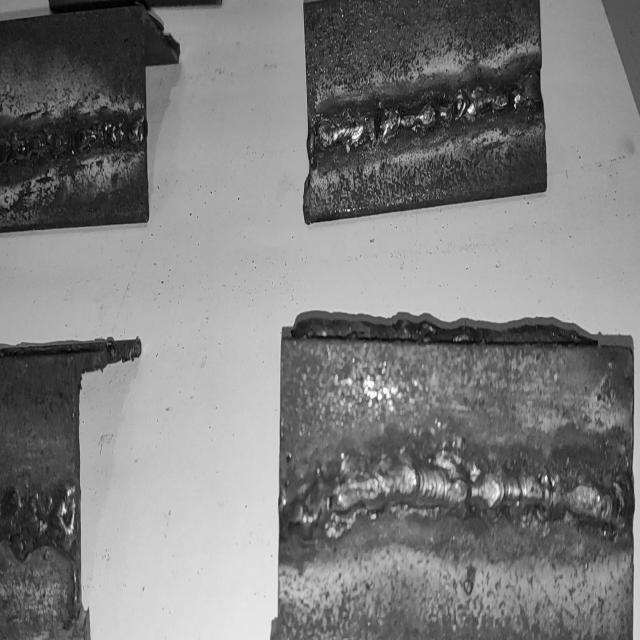Bad Weld: (283, 458, 627, 536)
Defect: (278, 445, 348, 558), (0, 473, 80, 564)
Good Weld: (312, 66, 539, 152), (3, 111, 143, 164)
